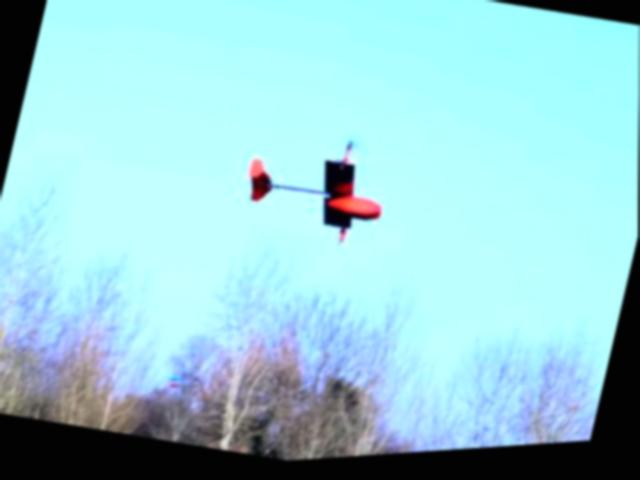uav: (228, 107, 410, 273)
